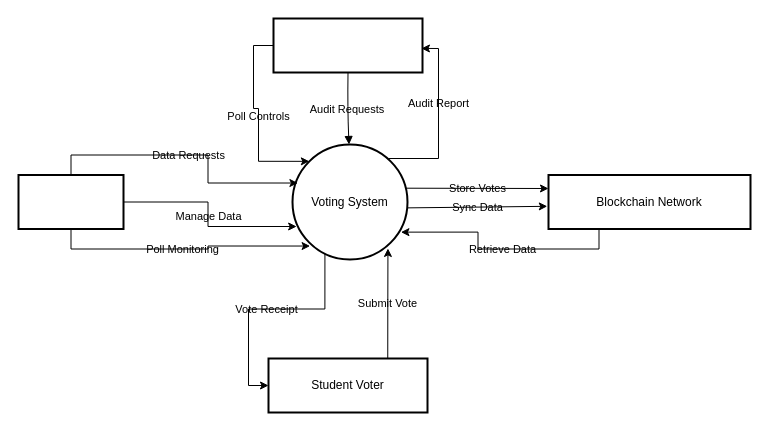
Some shapes in this 768 by 430 pixel diagram are drawn without their labels. Here are the shapes that lost their labels. From the top down, the box of each, then its label:
(272, 17, 423, 73): Super Admin
(17, 174, 124, 230): Admin
